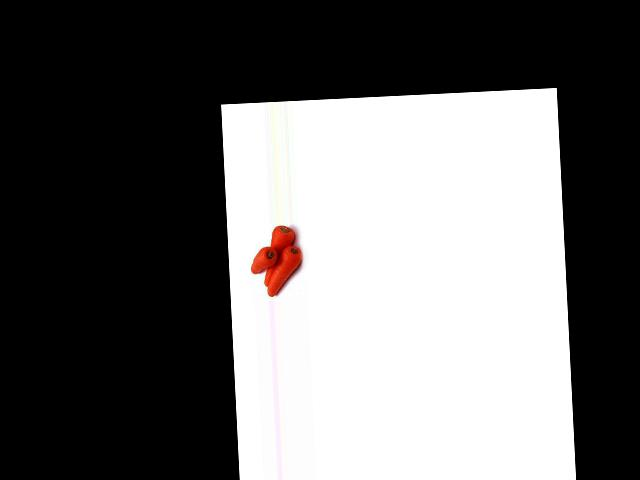carrot: (261, 223, 298, 293)
